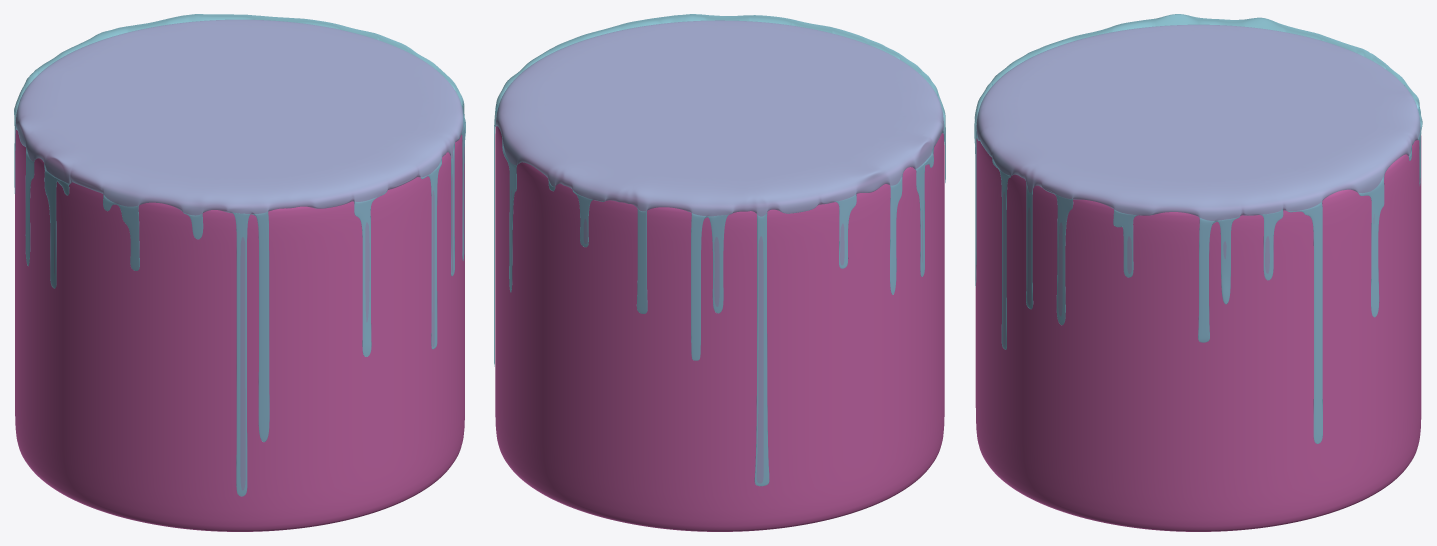
The model's file is Cake_Layer_1_Pink_BlueDrip.glb.
3 renders of one model, left to right at view 1: azimuth 30°, elevation 25°; view 2: azimuth 150°, elevation 25°; view 3: azimuth 270°, elevation 25°, orthographic.
Visible parts, largest first — view 1: Circle, Circle.001; view 2: Circle, Circle.001; view 3: Circle, Circle.001.
Part boxes in pixels (left/top/right/bottom): Circle: left=15, top=20, right=464, bottom=531; Circle.001: left=14, top=14, right=465, bottom=496; Circle: left=495, top=20, right=944, bottom=531; Circle.001: left=494, top=14, right=945, bottom=486; Circle: left=975, top=25, right=1421, bottom=531; Circle.001: left=974, top=14, right=1422, bottom=443.
Bounding box in the file's own units: 0.1501 × 0.1237 × 0.1499.
